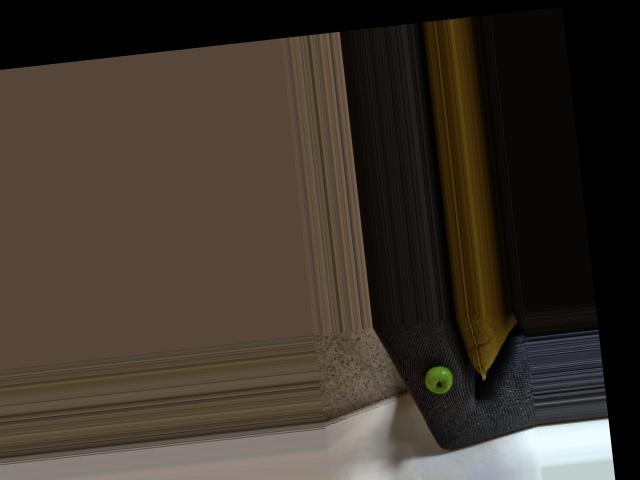apple: (422, 361, 456, 396)
